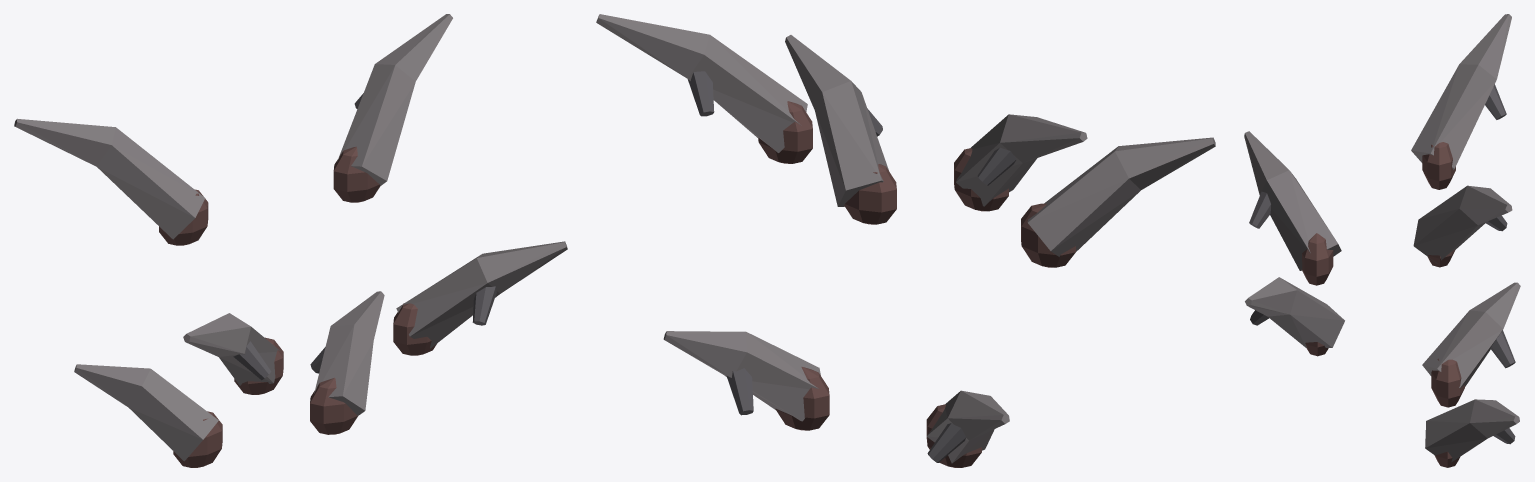
File: implants_female_barbs.obj
3 views of the same model, side by side, from view 1: azimuth 30°, elevation 25°; view 2: azimuth 150°, elevation 25°; view 3: azimuth 270°, elevation 25° (orthographic). The views are drawn at different scales.
Visible parts, largest first — view 1: implants_female_barbs; view 2: implants_female_barbs; view 3: implants_female_barbs.
Boxes of the visible parts, bbox=[...] form: implants_female_barbs: bbox=[14, 14, 567, 467]; implants_female_barbs: bbox=[596, 14, 1215, 467]; implants_female_barbs: bbox=[1244, 14, 1520, 467].
Size of the model in its own units: 0.6756 by 0.5314 by 0.4078.
